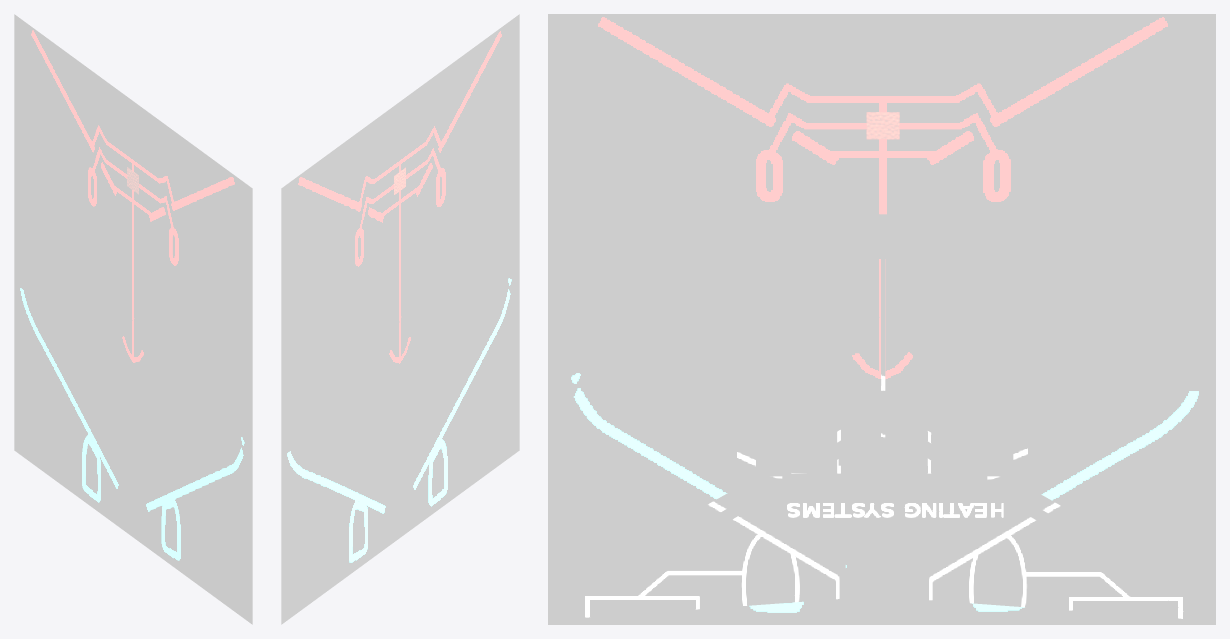
File: heat.glb
3 renders of one model, left to right at view 1: azimuth 30°, elevation 25°; view 2: azimuth 150°, elevation 25°; view 3: azimuth 270°, elevation 25°, orthographic. The views are drawn at different scales.
Parts seen in each view (by area): view 1: heat; view 2: heat; view 3: heat, wingice, wingheat, eng1ice, eng2ice, windowheat, eng2heat, eng1heat.
Part boxes in pixels (x1,y1,x2,y2): heat: (14,14,252,624); heat: (281,14,519,624); heat: (548,14,1215,624); wingice: (572,427,1195,619); wingheat: (604,433,1164,591); eng1ice: (737,377,808,487); eng2ice: (959,378,1027,484); windowheat: (846,222,921,464); eng2heat: (900,418,1013,487); eng1heat: (756,418,868,487).
Size of the model in its own units: 0.000983 by 0.1697 by 0.1681.
Materials: 1 (1 with a texture image).
